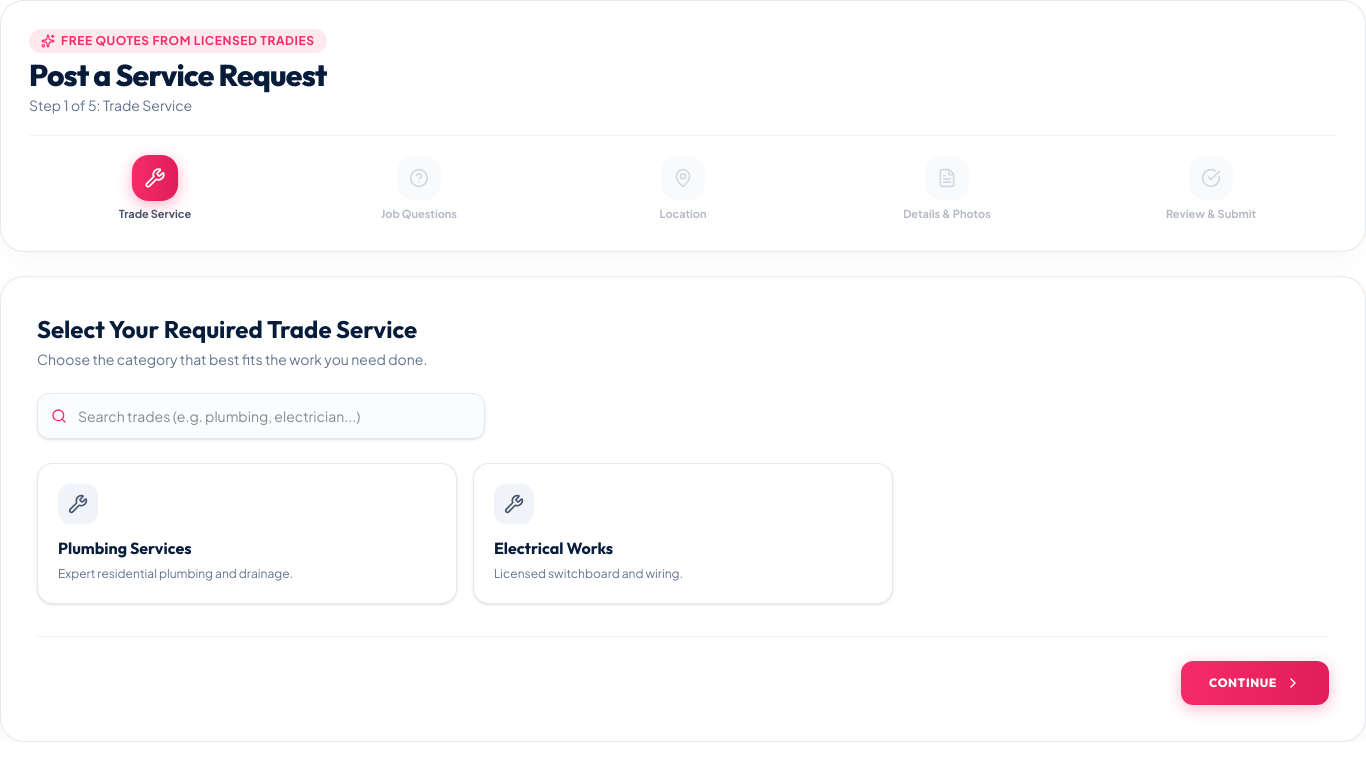
Test: ServiceRequestWizard Intake Workflow › renders question types properly and enforces required questions in Step 2
Move to Step 2
Click the button with test id "select-service-1".
click(78, 504)  # box [37,462,457,604]
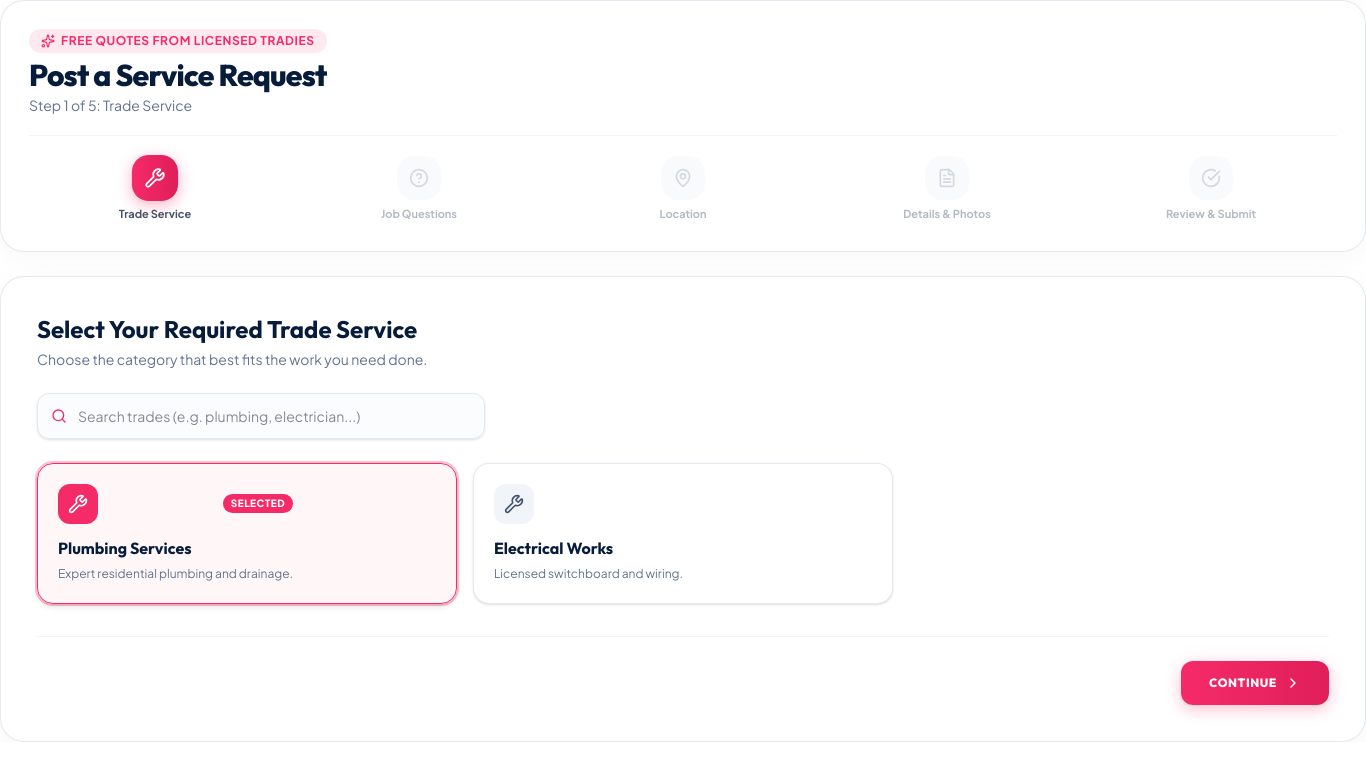
Click the button with test id "wizard-continue-button".
click(1255, 683)  # box [1181,661,1329,705]
(page scrolled)
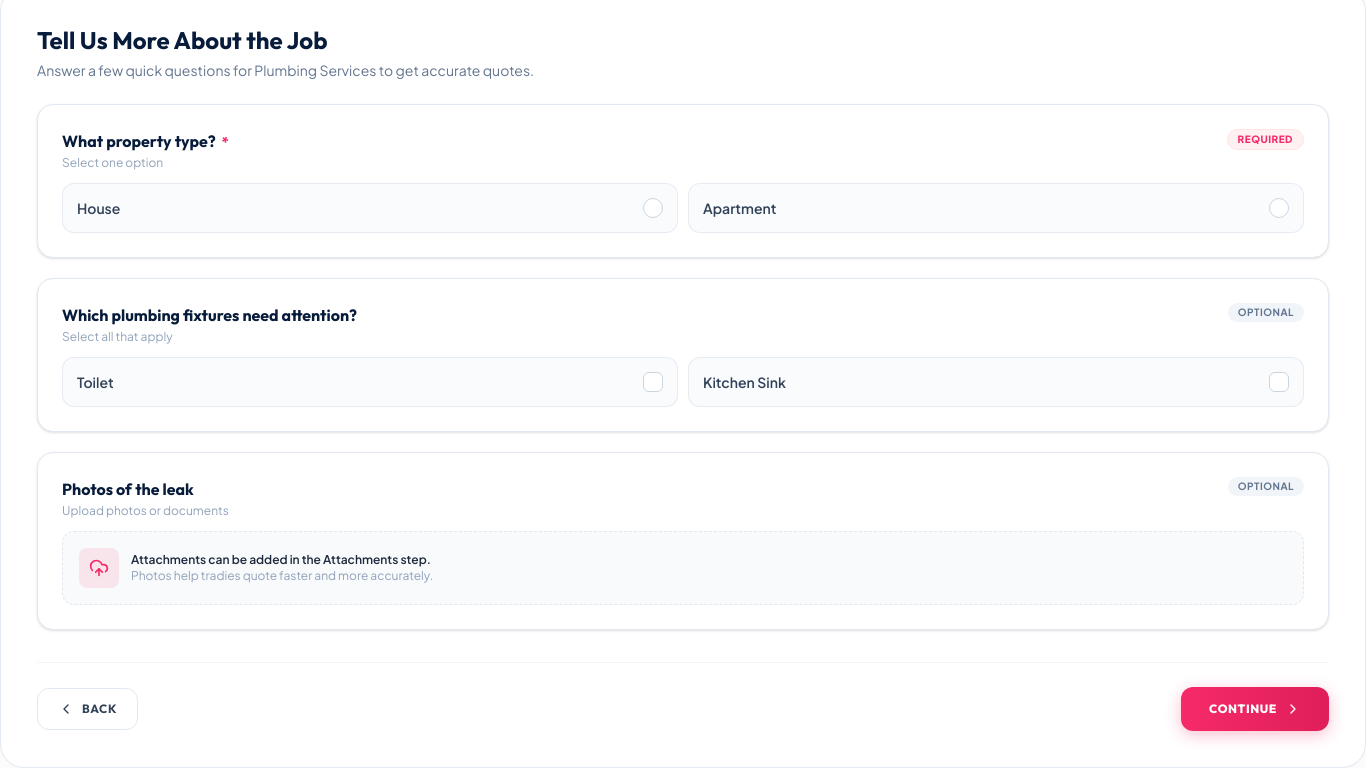
Expected: the text "What property type?" is shown, [62,130,216,150]
Expected: the checkbox with test id "checkbox-option-201" is shown, [62,356,678,406]
Expected: the checkbox with test id "checkbox-option-202" is shown, [688,356,1304,406]
Try to continue without answering required question 10
Click the button with test id "wizard-continue-button".
click(1255, 708)  # box [1181,686,1329,730]
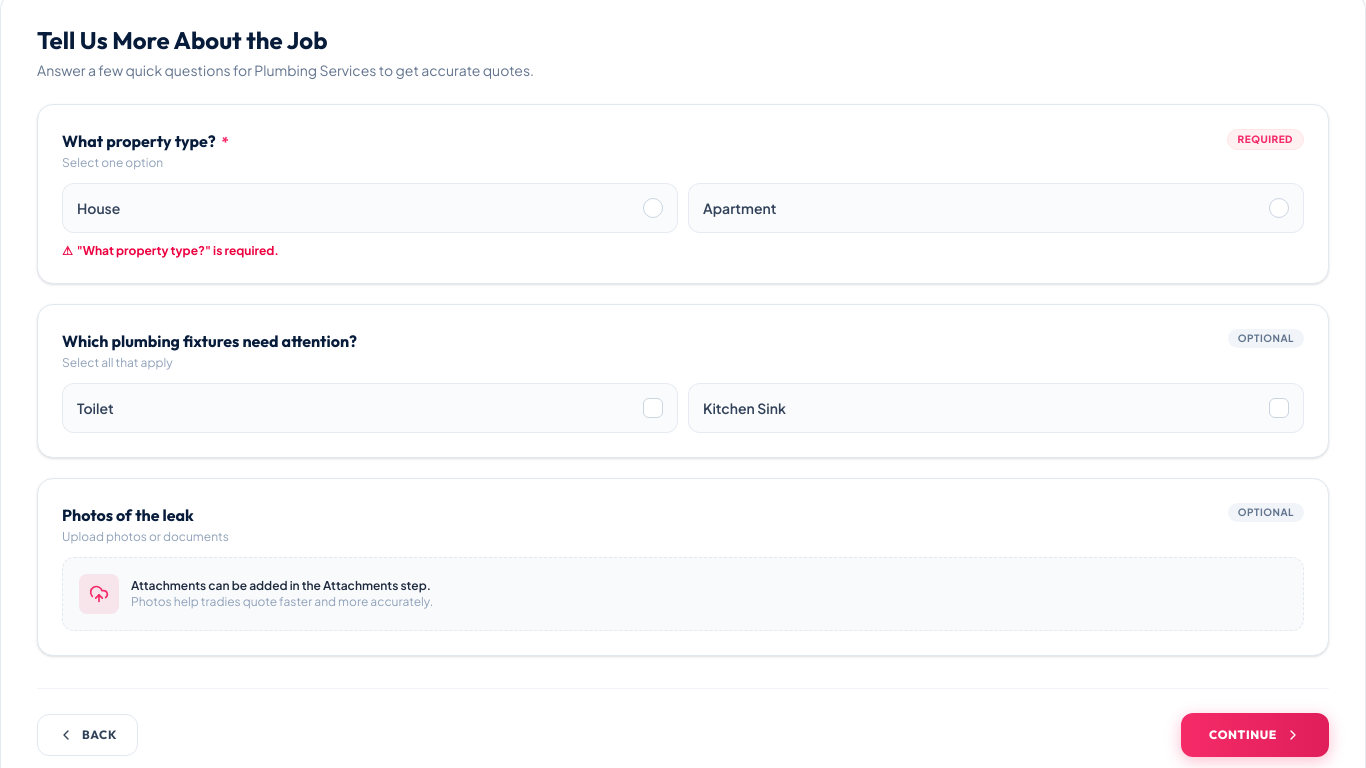
Expected: the text "\"What property type?\" is required." is shown, [77,242,279,258]
